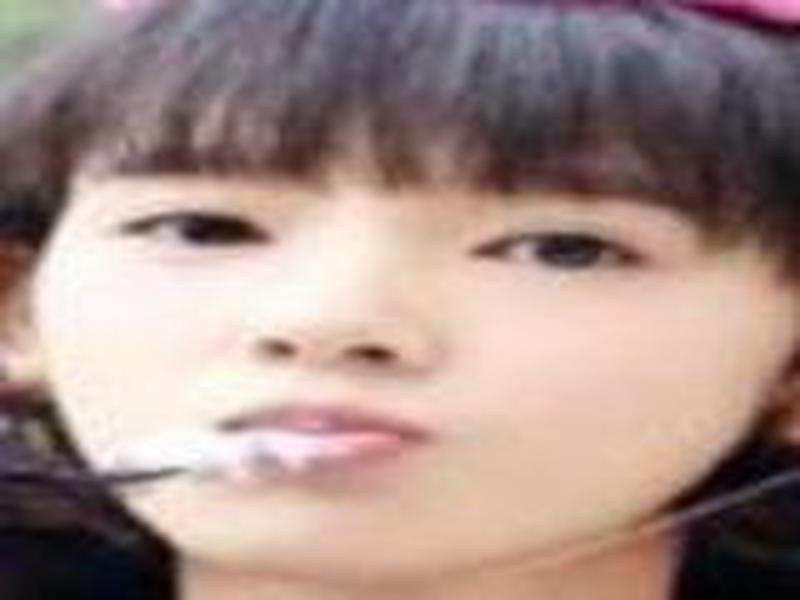without_mask: (34, 129, 772, 580)
